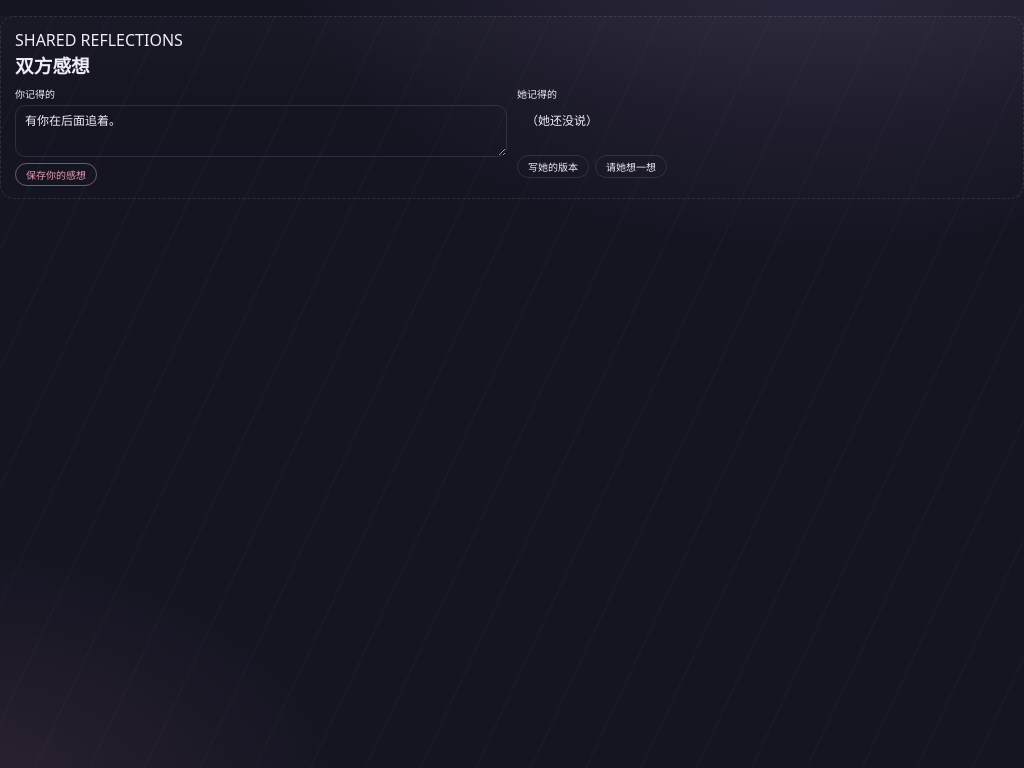
ViewpointBlock › fills her side with an on-demand draft into the editor
This screenshot has width=1024, height=768.
Click the button "请她想一想" at (631, 166), box [595, 155, 667, 178]
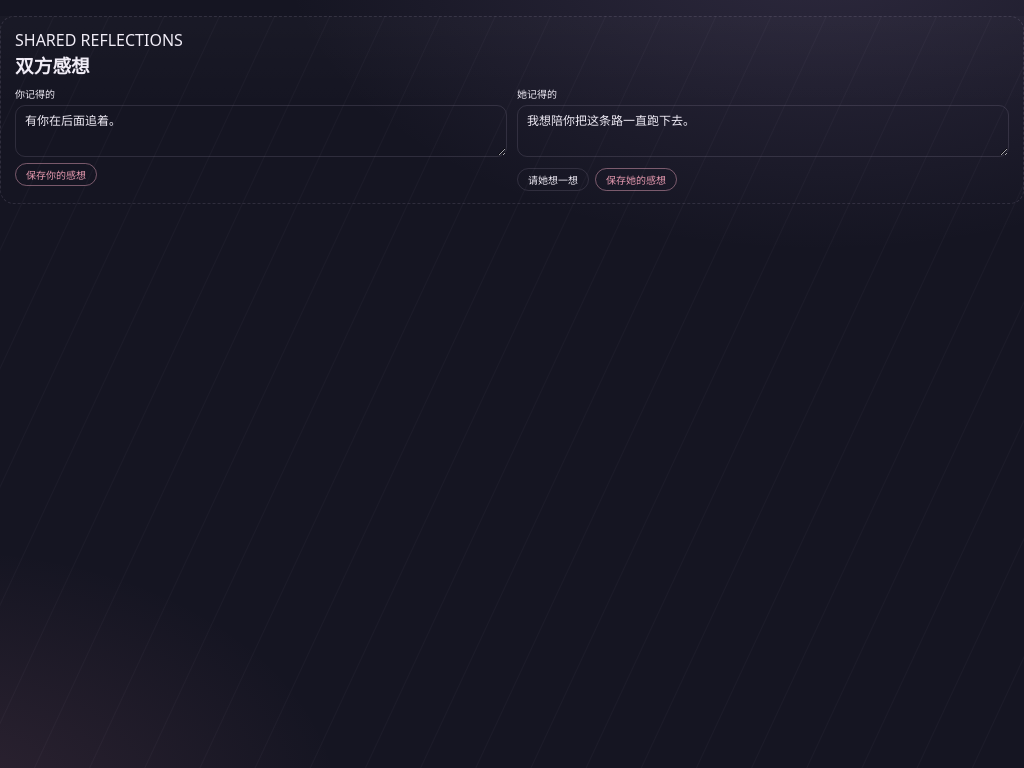
Check: the text box named "她的感想编辑" holds "我想陪你把这条路一直跑下去。", box [517, 105, 1009, 157]
